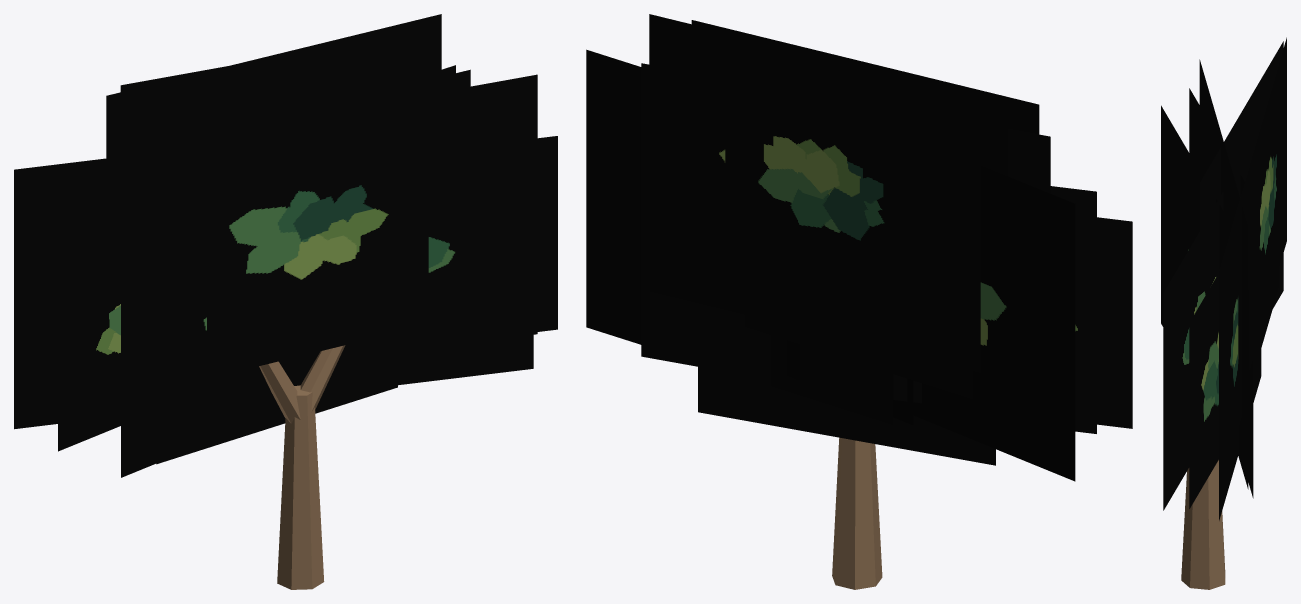
Rendered from TREE_NATIVE_ROUNDED_001_V4_LOD_CLOSE.glb.
The picture shows the model from 3 angles, left to right: view 1: azimuth 30°, elevation 25°; view 2: azimuth 150°, elevation 25°; view 3: azimuth 270°, elevation 25°; orthographic projection. The views are drawn at different scales.
Parts seen in each view (by area): view 1: GG_NATIVE_V4_CLUSTER_07, GG_NATIVE_V4_CLUSTER_05, GG_NATIVE_V4_CLUSTER_04, GG_NATIVE_V4_CLUSTER_02, GG_NATIVE_V4_CLUSTER_00, GG_NATIVE_V4_CLUSTER_09, GG_NATIVE_V4_LOCKED_CARCASS_00, GG_NATIVE_V4_CLUSTER_10, GG_NATIVE_V4_CLUSTER_01, GG_NATIVE_V4_CLUSTER_06, GG_NATIVE_V4_CLUSTER_03, GG_NATIVE_V4_CLUSTER_11 (+3 smaller); view 2: GG_NATIVE_V4_CLUSTER_06, GG_NATIVE_V4_CLUSTER_02, GG_NATIVE_V4_CLUSTER_00, GG_NATIVE_V4_CLUSTER_01, GG_NATIVE_V4_CLUSTER_08, GG_NATIVE_V4_CLUSTER_11, GG_NATIVE_V4_CLUSTER_09, GG_NATIVE_V4_CLUSTER_03, GG_NATIVE_V4_LOCKED_CARCASS_00, GG_NATIVE_V4_CLUSTER_07, GG_NATIVE_V4_CLUSTER_04; view 3: GG_NATIVE_V4_CLUSTER_05, GG_NATIVE_V4_CLUSTER_06, GG_NATIVE_V4_CLUSTER_10, GG_NATIVE_V4_CLUSTER_04, GG_NATIVE_V4_CLUSTER_01, GG_NATIVE_V4_CLUSTER_03, GG_NATIVE_V4_LOCKED_CARCASS_00, GG_NATIVE_V4_CLUSTER_00, GG_NATIVE_V4_CLUSTER_11, GG_NATIVE_V4_CLUSTER_08, GG_NATIVE_V4_CLUSTER_09.
Boxes of the visible parts, x1,y1,x2,y2 form: GG_NATIVE_V4_CLUSTER_07: (146,69,470,378); GG_NATIVE_V4_CLUSTER_05: (323,142,533,394); GG_NATIVE_V4_CLUSTER_04: (121,216,325,477); GG_NATIVE_V4_CLUSTER_02: (106,14,441,237); GG_NATIVE_V4_CLUSTER_00: (14,153,358,429); GG_NATIVE_V4_CLUSTER_09: (58,231,124,451); GG_NATIVE_V4_LOCKED_CARCASS_00: (277,385,324,589); GG_NATIVE_V4_CLUSTER_10: (470,136,557,332); GG_NATIVE_V4_CLUSTER_01: (470,74,537,334); GG_NATIVE_V4_CLUSTER_06: (120,32,413,91); GG_NATIVE_V4_CLUSTER_03: (124,65,455,249); GG_NATIVE_V4_CLUSTER_11: (302,69,429,110); GG_NATIVE_V4_CLUSTER_06: (725,42,957,342); GG_NATIVE_V4_CLUSTER_02: (649,14,1008,372); GG_NATIVE_V4_CLUSTER_00: (913,165,1075,481); GG_NATIVE_V4_CLUSTER_01: (586,49,893,424); GG_NATIVE_V4_CLUSTER_08: (698,303,995,465); GG_NATIVE_V4_CLUSTER_11: (745,148,972,399); GG_NATIVE_V4_CLUSTER_09: (893,214,1132,428); GG_NATIVE_V4_CLUSTER_03: (641,63,1050,366); GG_NATIVE_V4_LOCKED_CARCASS_00: (832,437,882,589); GG_NATIVE_V4_CLUSTER_07: (691,20,1039,134); GG_NATIVE_V4_CLUSTER_04: (1050,186,1096,433); GG_NATIVE_V4_CLUSTER_05: (1163,159,1242,510); GG_NATIVE_V4_CLUSTER_06: (1249,37,1286,369); GG_NATIVE_V4_CLUSTER_10: (1189,273,1218,508); GG_NATIVE_V4_CLUSTER_04: (1161,105,1230,326); GG_NATIVE_V4_CLUSTER_01: (1219,171,1261,520); GG_NATIVE_V4_CLUSTER_03: (1199,59,1248,489); GG_NATIVE_V4_LOCKED_CARCASS_00: (1181,460,1225,589); GG_NATIVE_V4_CLUSTER_00: (1200,41,1283,308); GG_NATIVE_V4_CLUSTER_11: (1238,168,1278,425); GG_NATIVE_V4_CLUSTER_08: (1248,289,1253,498); GG_NATIVE_V4_CLUSTER_09: (1189,88,1244,196).
Bounding box in the file's own units: 7.15 × 6.93 × 1.62.
2 materials, 1 textured.
